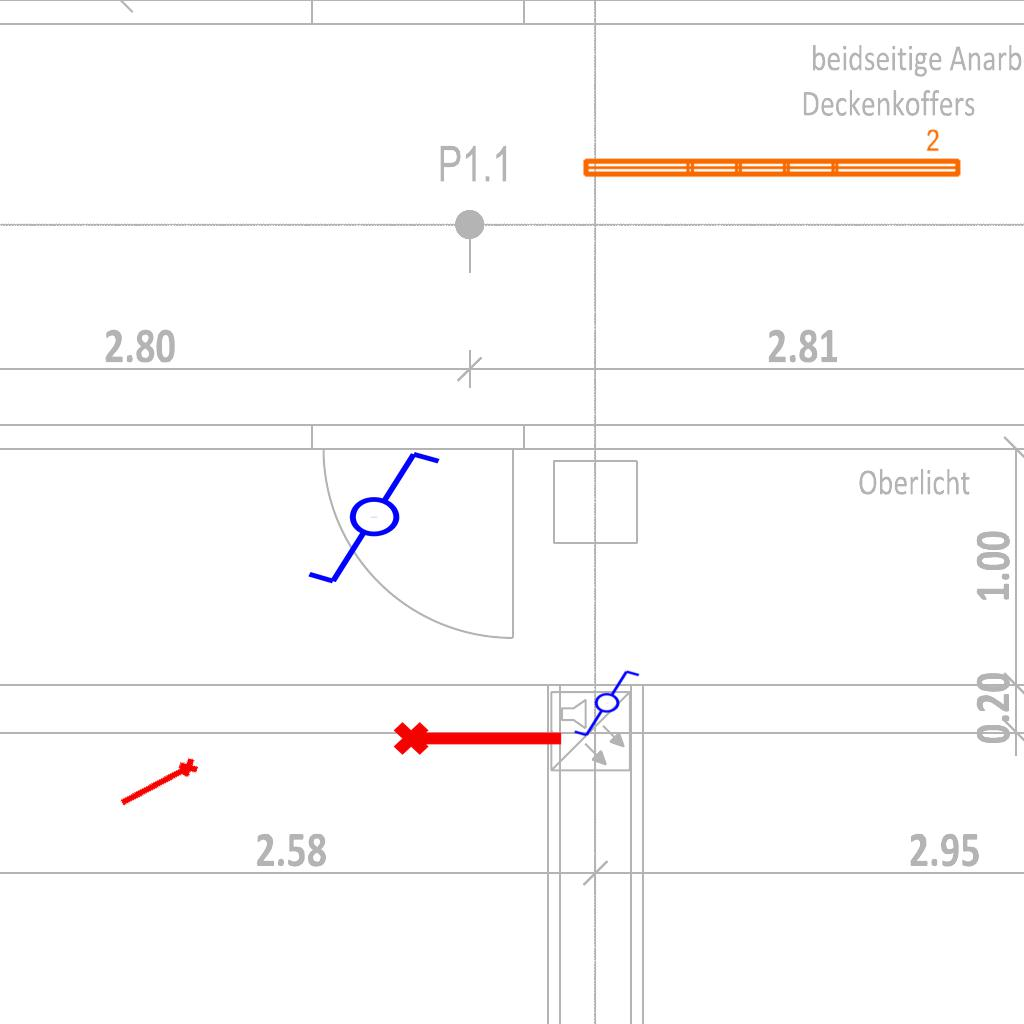ASR_Ansaugoeffnung: (391, 713, 567, 759), (114, 753, 204, 816)
Ambulanz_Pendelleuchte_LED: (578, 127, 965, 183)
Wechselschalter: (304, 447, 461, 591), (572, 668, 650, 740)
